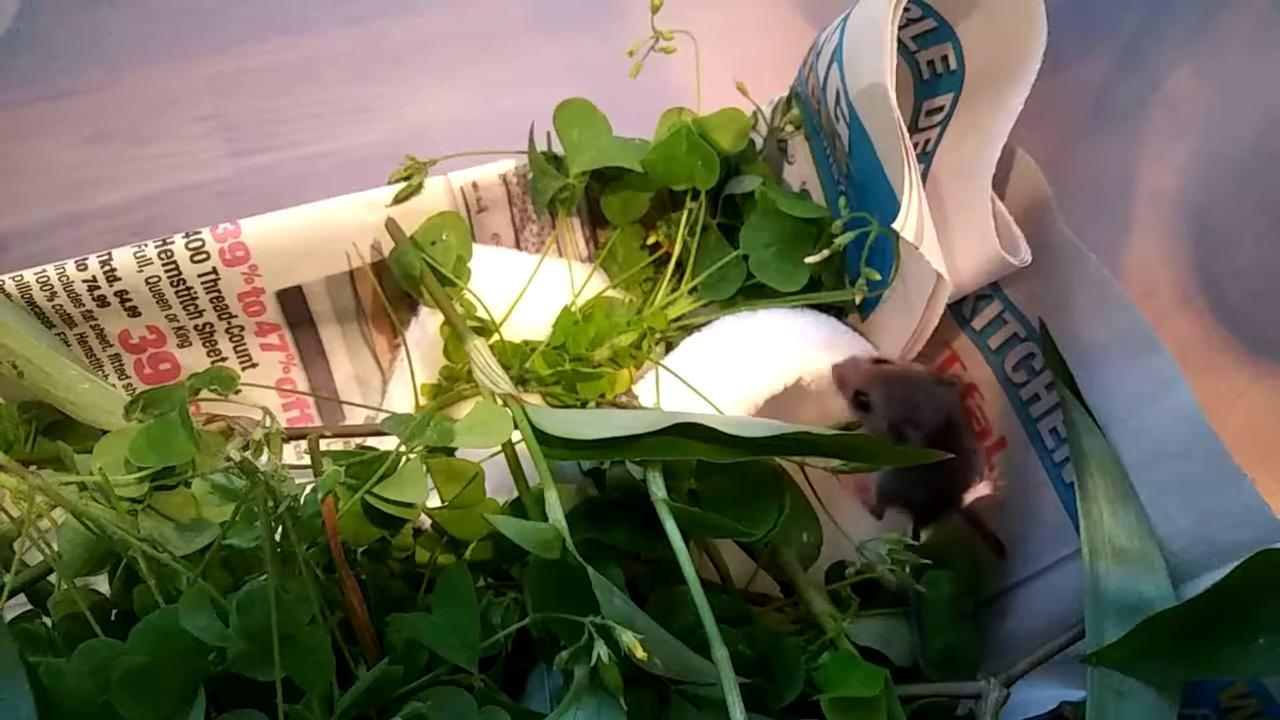rat: (832, 354, 979, 523)
